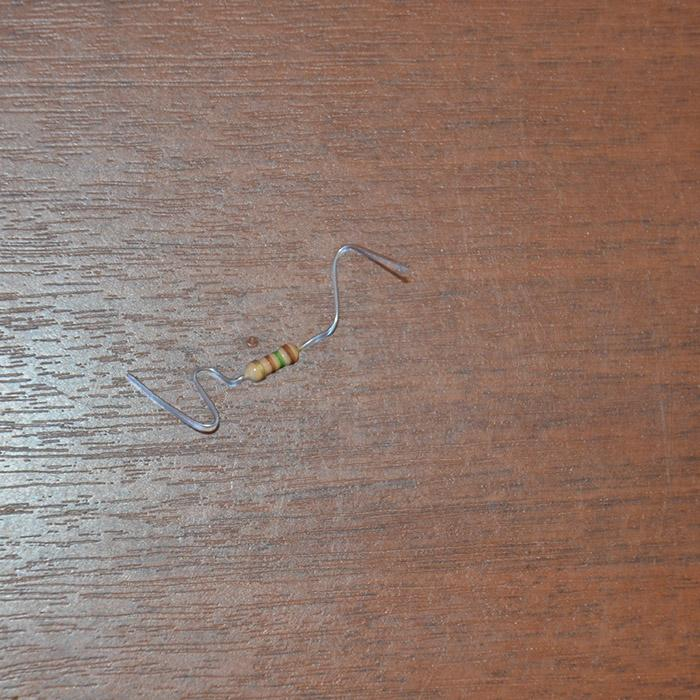resistor: (244, 342, 303, 383)
